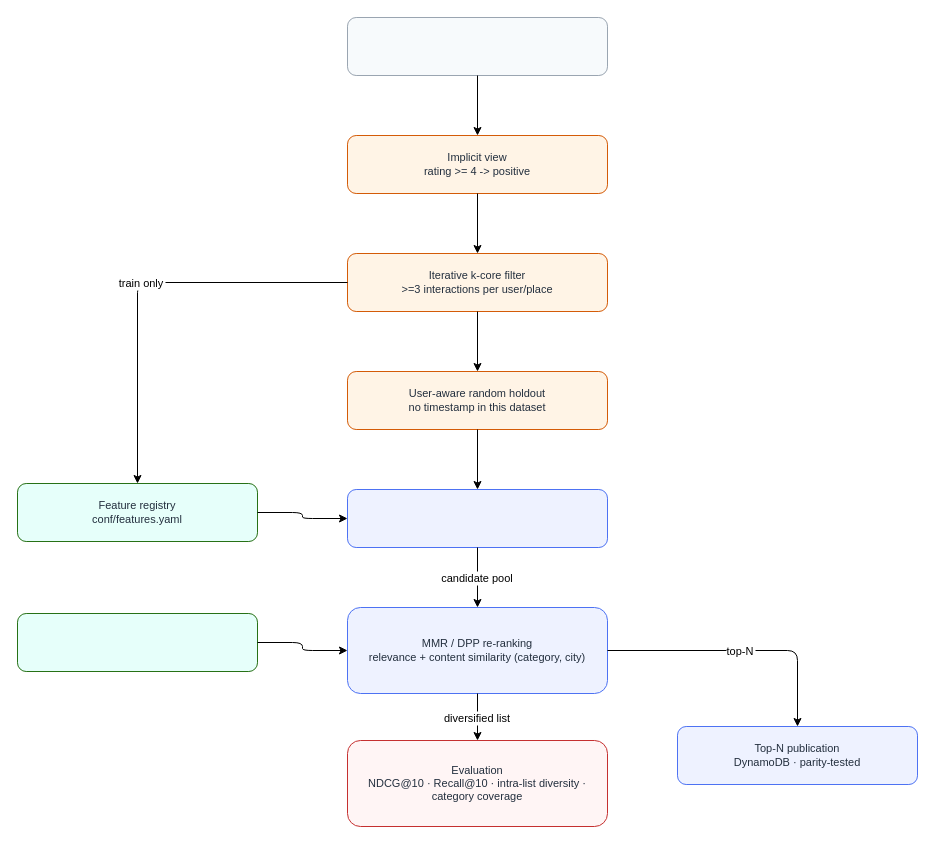
The diagram is 935 pixels wide and 844 high, and some of its shapes have lost their labels. Here are the shapes that lost their labels. From the top down, the centre of each, then its label:
At [477,46]: "Raw tourism ratings user · place · overall rating".
At [477,518]: "ItemKNN relevance shrunk cosine co-visitation".
At [137,642]: "Content similarity category + city one-hot cosine".
